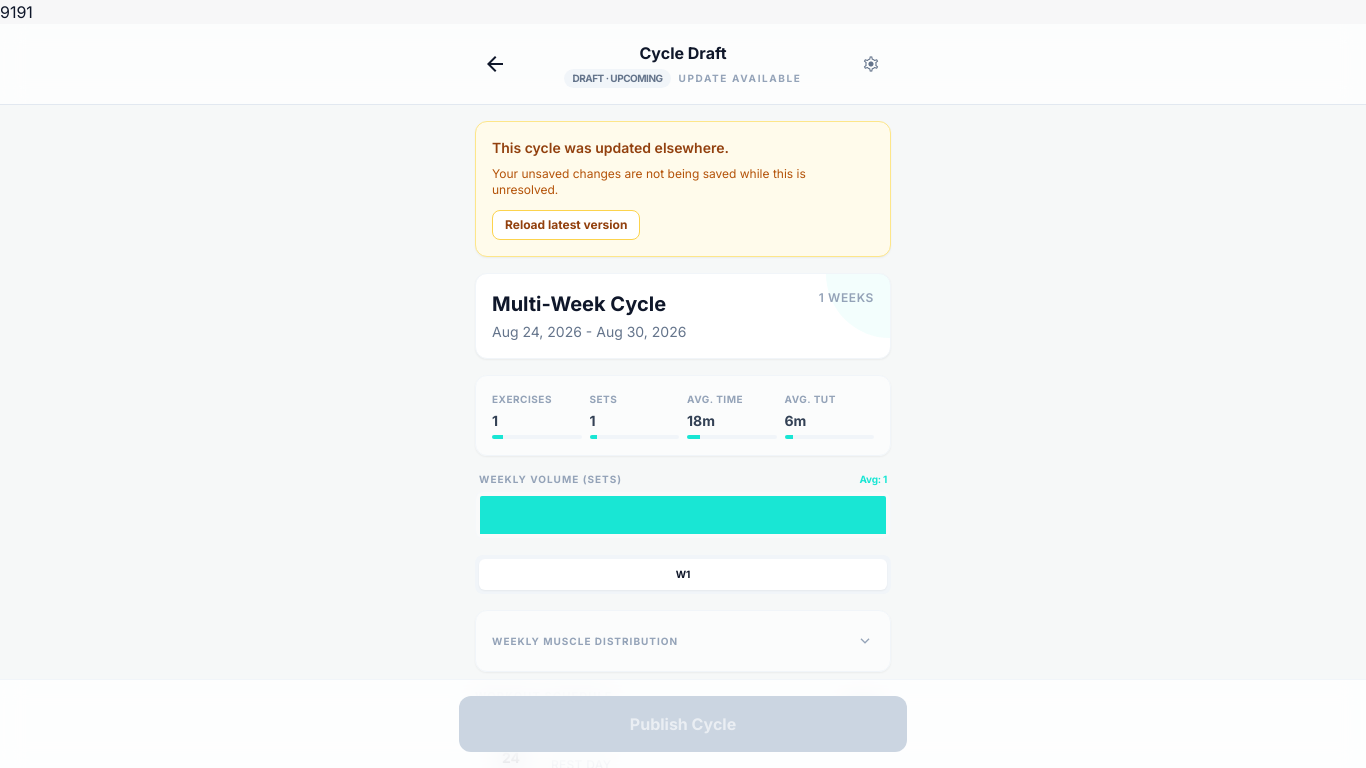
Test: ManualBuilderMulti workout terminal-action barrier › Save Settings settles after a structural revision conflict without overwriting local content
This screenshot has width=1366, height=768.
Check: the button "Publish Cycle" is shown, box [459,696,907,752]
Click the button named "Open cycle settings" at (871, 64), box [851,44,891,84]
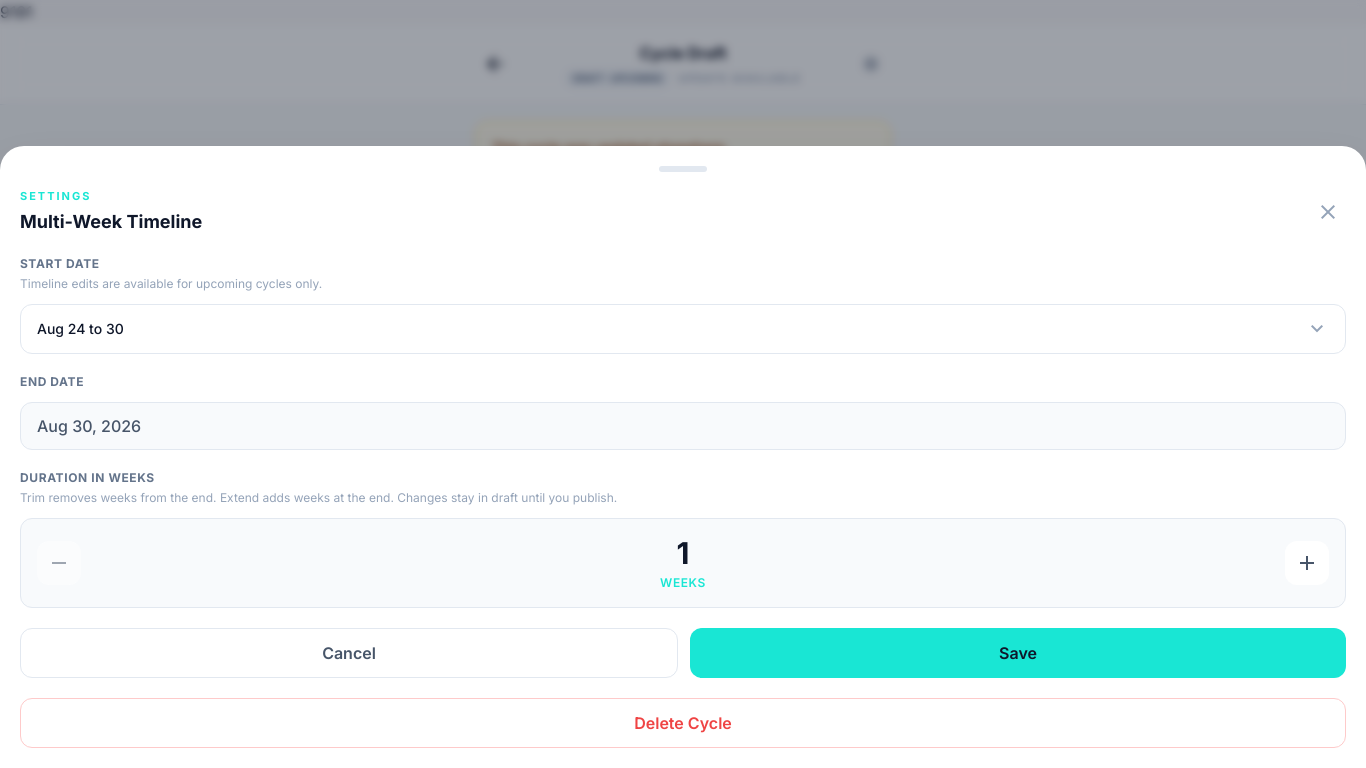
Click the button "Save" at (1018, 653), box [690,628,1346,678]
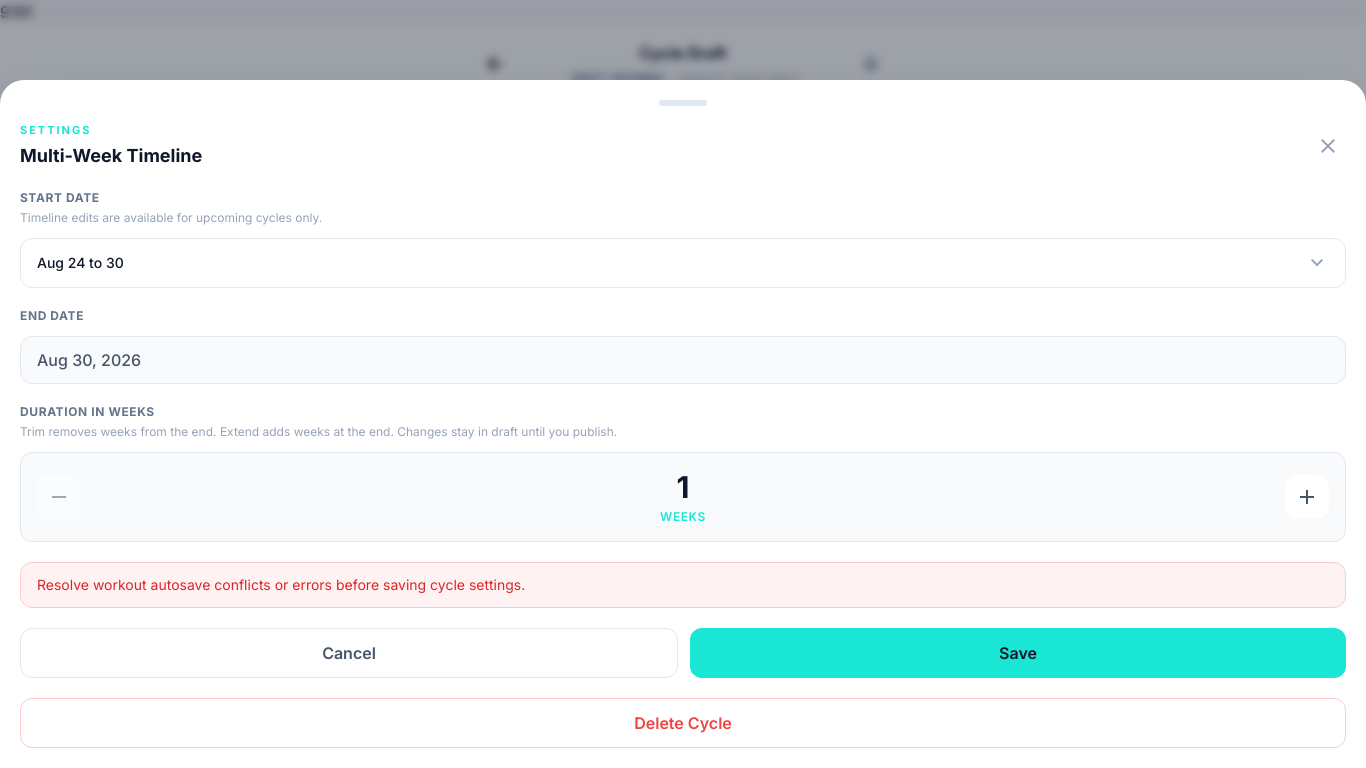
Check: the text with test id "local-workout-reps" reads "91", box [0,2,16,22]
Check: the button "Save" is enabled, box [690,628,1346,678]
Check: the text "Resolve workout autosave conflicts or errors before saving cycle settings." is shown, box [20,562,1346,608]
